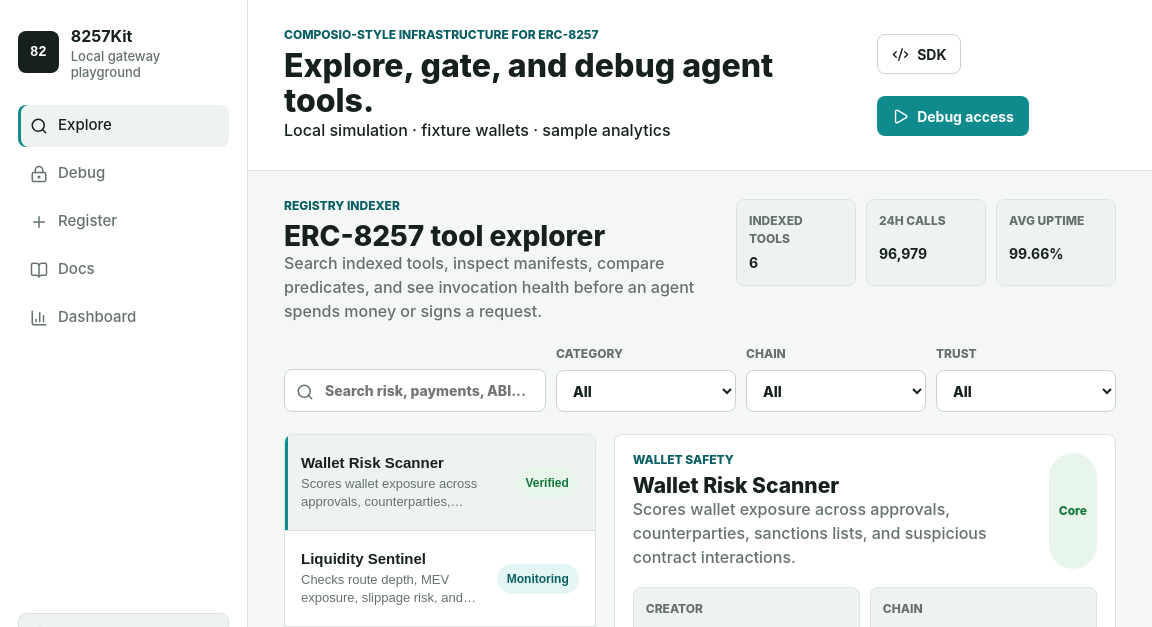
Test: 8257Kit app › renders the explorer and filters indexed tools
This screenshot has width=1152, height=627.
Check: the heading "ERC-8257 tool explorer" is shown, box [284, 219, 605, 253]
Check: the text "Wallet Risk Scanner" is shown, box [301, 454, 444, 471]
Type "x402" into the field named "Search tools" at (415, 391), box [284, 369, 546, 412]
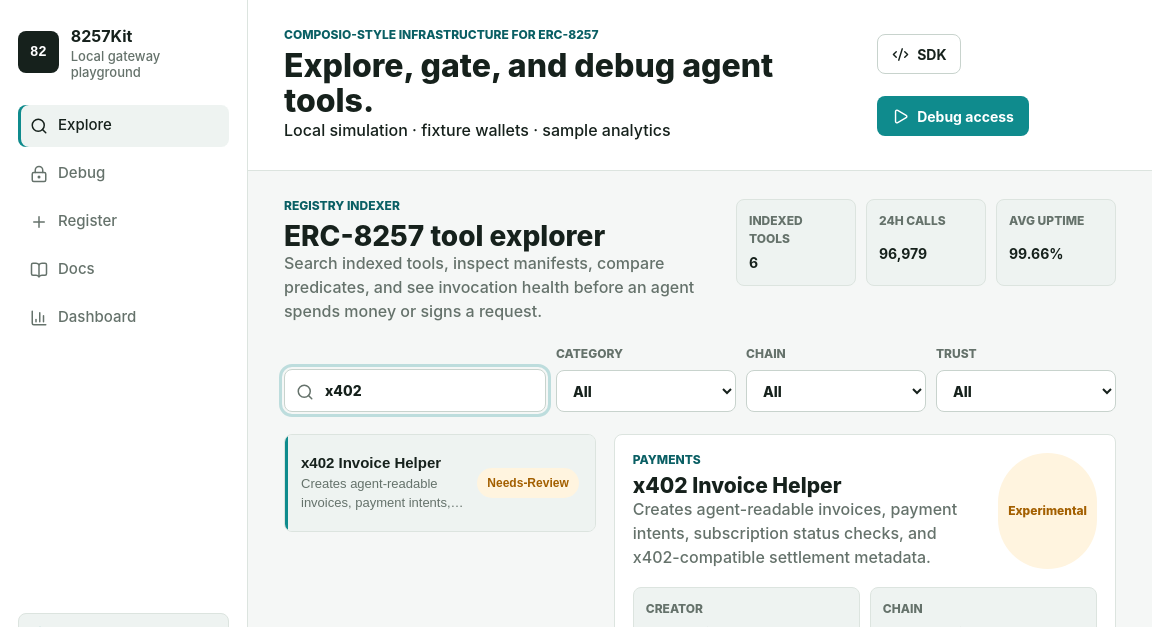
Check: the text "x402 Invoice Helper" is shown, box [301, 454, 465, 471]
Check: the button "Liquidity Sentinel" is gone
